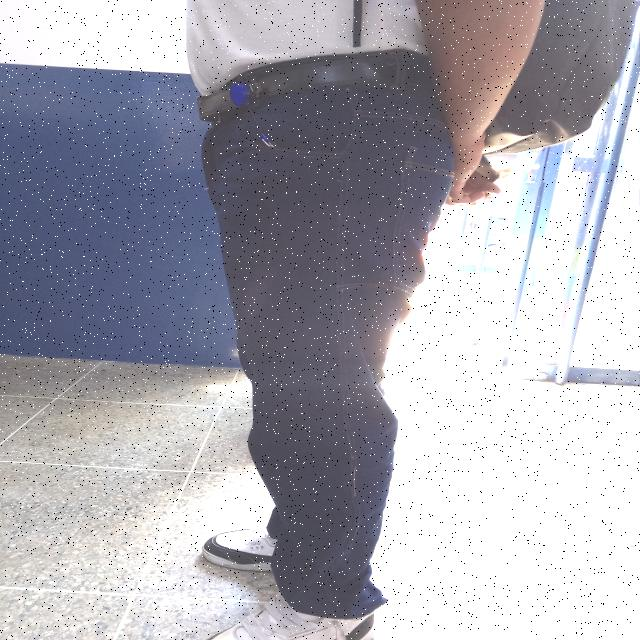pantalon_oscuro: (199, 82, 461, 621)
